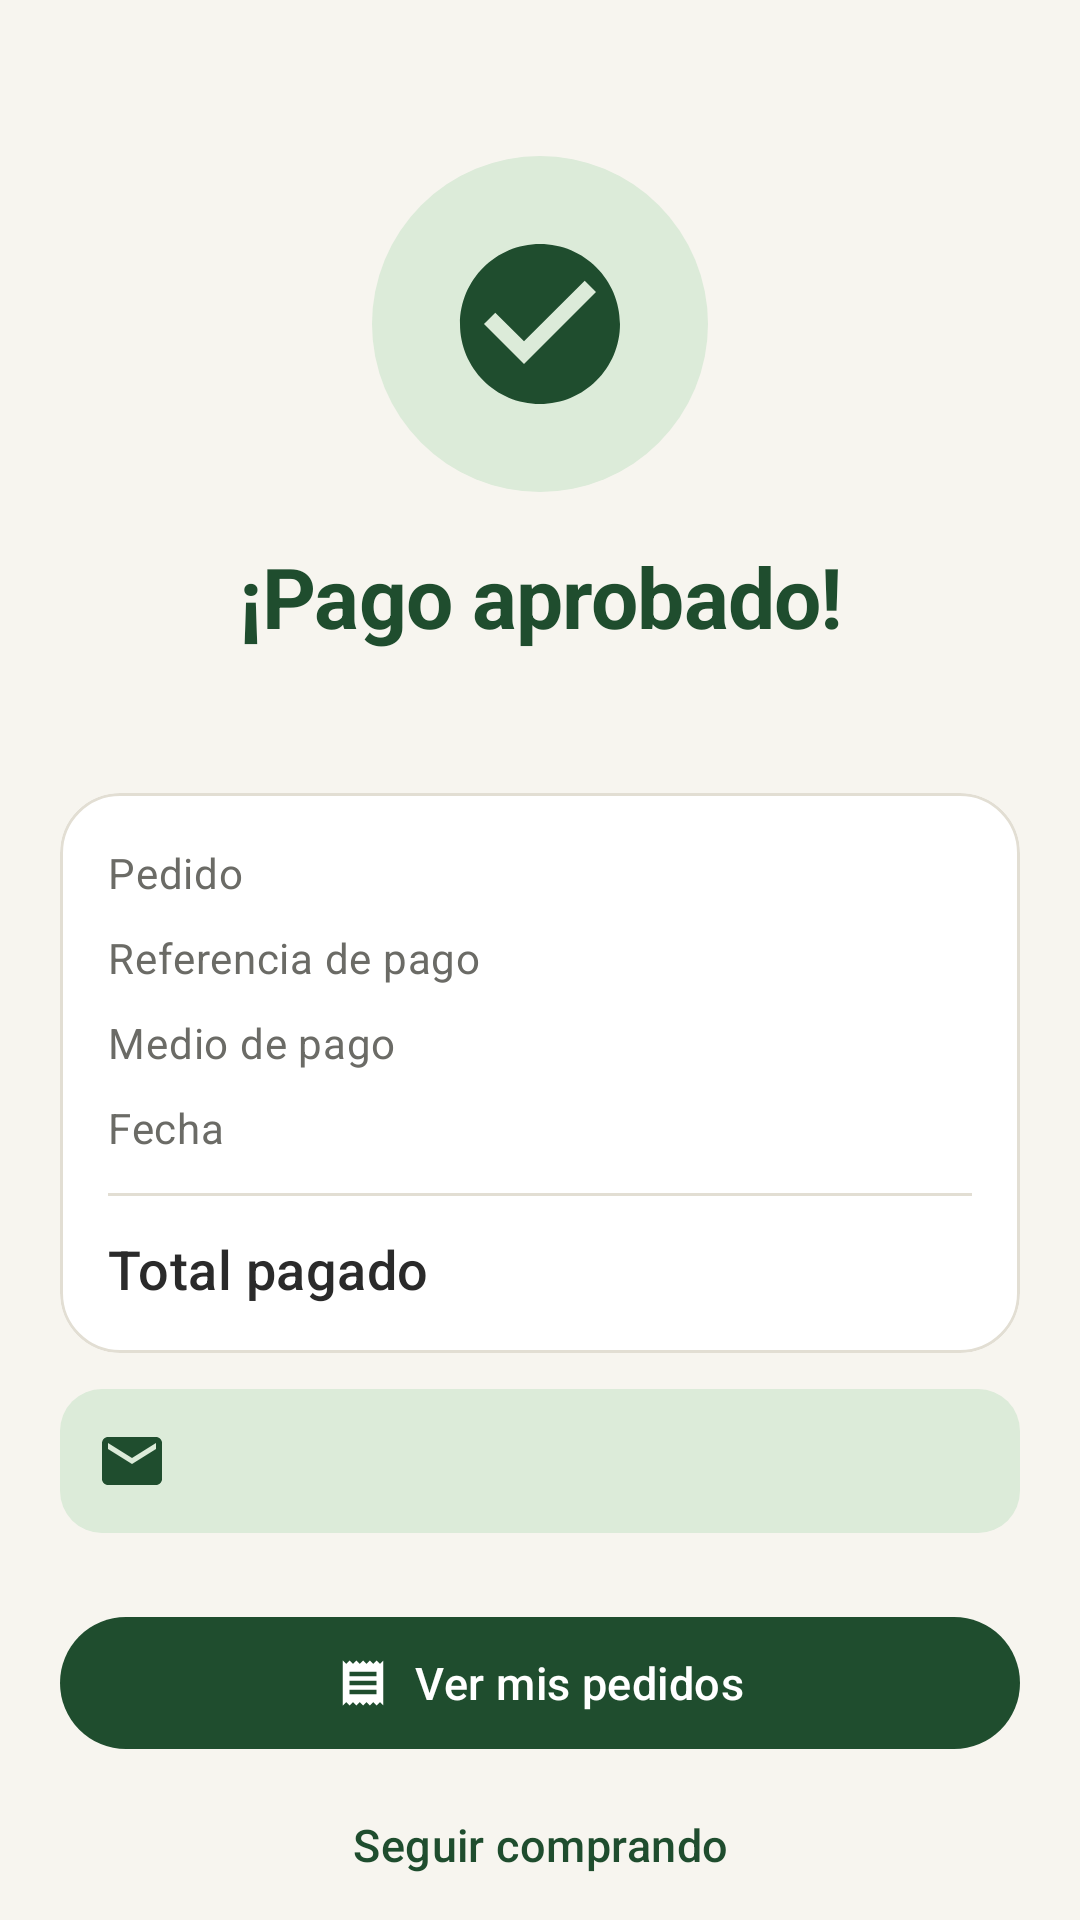

Locate icon controls on the screen. Image size 1080 x 1920, boxes as bbox=(x1, y1, x2, y2).
check circulo: bbox=(460, 244, 620, 404)
